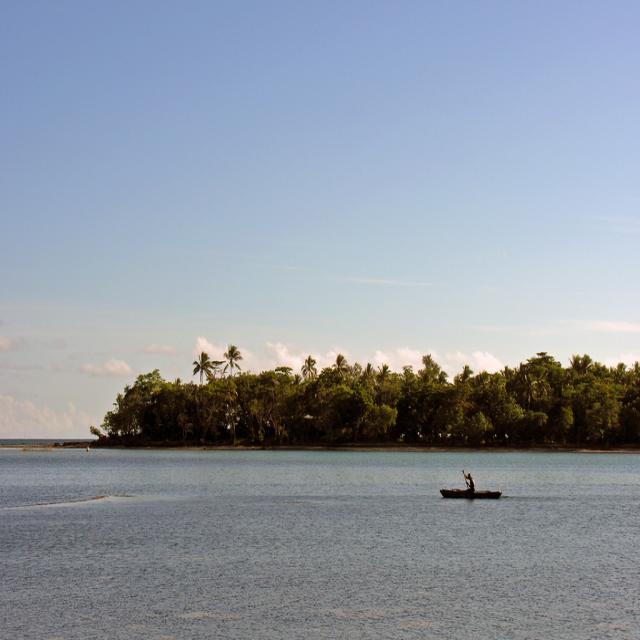Boat: (435, 476, 502, 518)
